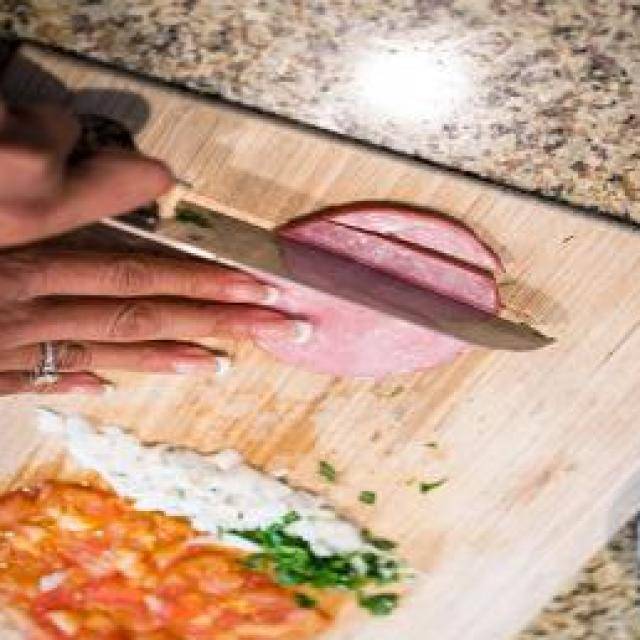knife: (82, 196, 557, 342)
